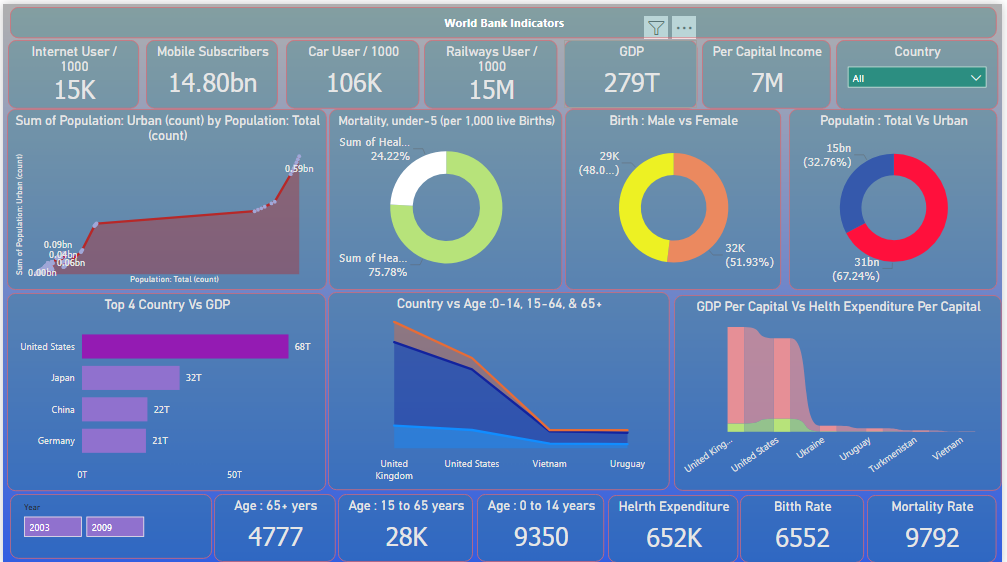

The dashboard page shown, as its layout file describes it:
{"tool":"powerbi","page":{"name":"Page 1","canvas":[1280,720],"ordinal":0},"visuals":[{"type":"card","title":"Internet User / 1000","fields":{"Values":["Sum(World Bank Indicator.Business: Internet users (per 100 people))"]},"box":[6.2,46.3,167.5,87.5],"z":0},{"type":"card","title":"Mobile Subscribers","fields":{"Values":["Sum(World Bank Indicator.Business: Mobile phone subscribers)"]},"box":[183.7,46.3,168.8,87.5],"z":1000},{"type":"card","title":"Car User / 1000","fields":{"Values":["Sum(World Bank Indicator.Transit: Passenger cars (per 1,000 people))"]},"box":[362.5,46.3,171.2,87.5],"z":2000},{"type":"card","title":"Railways User / 1000","fields":{"Values":["Sum(World Bank Indicator.Transit: Railways, (million passenger-km))"]},"box":[540,46.3,171.2,87.5],"z":3000},{"type":"card","title":"GDP","fields":{"Values":["Sum(World Bank Indicator.Finance: GDP (current US$))"]},"box":[718.7,46.3,171.2,87.5],"z":4000},{"type":"card","title":"Per Capital Income","fields":{"Values":["Sum(World Bank Indicator.Finance: GDP per capita (current US$))"]},"box":[896.2,46.3,165,87.5],"z":5000},{"type":"slicer","title":"Country","fields":{"Values":["World Bank Indicator.Country Name"]},"box":[1067.5,46.3,207.5,88.8],"z":6000},{"type":"donutChart","title":"Mortality, under-5 (per 1,000 live Births)","fields":{"Y":["Sum(World Bank Indicator.Health: Life expectancy at birth, total (years))","Sum(World Bank Indicator.Health: Mortality, under-5 (per 1,000 live births))"]},"box":[418.4,134.8,298.8,232.1],"z":7000},{"type":"donutChart","title":"Birth : Male vs Female","fields":{"Y":["Sum(World Bank Indicator.Health: Life expectancy at birth, female (years))","Sum(World Bank Indicator.Health: Life expectancy at birth, male (years))"]},"box":[720,134.8,276.6,232.1],"z":8000},{"type":"areaChart","fields":{"Category":["World Bank Indicator.Population: Total (count)"],"Y":["Sum(World Bank Indicator.Population: Urban (count))"]},"box":[5.6,134.8,410,232.1],"z":9000},{"type":"donutChart","title":"Populatin : Total Vs Urban","fields":{"Y":["Sum(World Bank Indicator.Population: Total (count))","Sum(World Bank Indicator.Population: Urban (count))"]},"box":[1007.7,134.8,266.9,232.1],"z":10000},{"type":"clusteredBarChart","title":"Top 4 Country Vs GDP","fields":{"Category":["World Bank Indicator.Country Name"],"Y":["Sum(World Bank Indicator.Finance: GDP (current US$))"]},"box":[5.3,370.9,408.6,254.4],"z":11000},{"type":"stackedAreaChart","title":"Country vs Age :0-14, 15-64, & 65+","fields":{"Y":["Sum(World Bank Indicator.Population: Ages 0-14 (% of total))","Sum(World Bank Indicator.Population: Ages 15-64 (% of total))","Sum(World Bank Indicator.Population: Ages 65+ (% of total))"],"Category":["World Bank Indicator.Country Name"]},"box":[416.7,369.5,437.8,254.4],"z":12000},{"type":"slicer","fields":{"Values":["World Bank Indicator.Date.Variation.Date Hierarchy.Year"]},"box":[8.6,627.6,258.6,82.9],"z":13000},{"type":"ribbonChart","title":"GDP Per Capital Vs Helth Expenditure Per Capital","fields":{"Category":["World Bank Indicator.Country Name"],"Y":["Sum(World Bank Indicator.Finance: GDP per capita (current US$))","Sum(World Bank Indicator.Health: Health expenditure per capita (current US$))"]},"box":[860,372.9,420,251.4],"z":14000},{"type":"card","title":"Age : 65+ yers","fields":{"Values":["Sum(World Bank Indicator.Population: Ages 65+ (% of total))"]},"box":[270,627.6,155.7,87.1],"z":15000},{"type":"card","title":"Age : 15 to 65 years","fields":{"Values":["Sum(World Bank Indicator.Population: Ages 15-64 (% of total))"]},"box":[430,627.6,172.9,87.1],"z":16000},{"type":"card","title":"Age : 0 to 14 years","fields":{"Values":["Sum(World Bank Indicator.Population: Ages 0-14 (% of total))"]},"box":[607.1,627.6,162.9,87.1],"z":17000},{"type":"card","title":"Helrth Expenditure","fields":{"Values":["Sum(World Bank Indicator.Health: Health expenditure per capita (current US$))"]},"box":[775.7,629,167.1,87.1],"z":18000},{"type":"card","title":"Bitth Rate","fields":{"Values":["Sum(World Bank Indicator.Population:: Birth rate, crude (per 1,000))"]},"box":[944.3,629,158.6,87.1],"z":19000},{"type":"card","title":"Mortality Rate","fields":{"Values":["Sum(World Bank Indicator.Health: Mortality, under-5 (per 1,000 live births))"]},"box":[1107.1,629,165.7,87.1],"z":20000},{"type":"textbox","box":[8.3,4.2,1264.9,40.3],"z":21000}]}

Visuals, with their boxes in screenshot pixels (x1, y1, x2, y2), scaled from the page's 1280x720 canvas onto the 1007x562 screenshot:
"Internet User / 1000" card: (5, 36, 137, 104)
"Mobile Subscribers" card: (145, 36, 277, 104)
"Car User / 1000" card: (285, 36, 420, 104)
"Railways User / 1000" card: (425, 36, 560, 104)
"GDP" card: (565, 36, 700, 104)
"Per Capital Income" card: (705, 36, 835, 104)
"Country" slicer: (840, 36, 1003, 105)
"Mortality, under-5 (per 1,000 live Births)" donutChart: (329, 105, 564, 286)
"Birth : Male vs Female" donutChart: (566, 105, 784, 286)
areaChart - World Bank Indicator.Population: Total (count) x Sum(World Bank Indicator.Population: Urban (count)): (4, 105, 327, 286)
"Populatin : Total Vs Urban" donutChart: (793, 105, 1003, 286)
"Top 4 Country Vs GDP" clusteredBarChart: (4, 290, 326, 488)
"Country vs Age :0-14, 15-64, & 65+" stackedAreaChart: (328, 288, 672, 487)
slicer - World Bank Indicator.Date.Variation.Date Hierarchy.Year: (7, 490, 210, 555)
"GDP Per Capital Vs Helth Expenditure Per Capital" ribbonChart: (677, 291, 1006, 487)
"Age : 65+ yers" card: (212, 490, 335, 558)
"Age : 15 to 65 years" card: (338, 490, 474, 558)
"Age : 0 to 14 years" card: (478, 490, 606, 558)
"Helrth Expenditure" card: (610, 491, 742, 559)
"Bitth Rate" card: (743, 491, 868, 559)
"Mortality Rate" card: (871, 491, 1001, 559)
textbox: (7, 3, 1002, 35)
